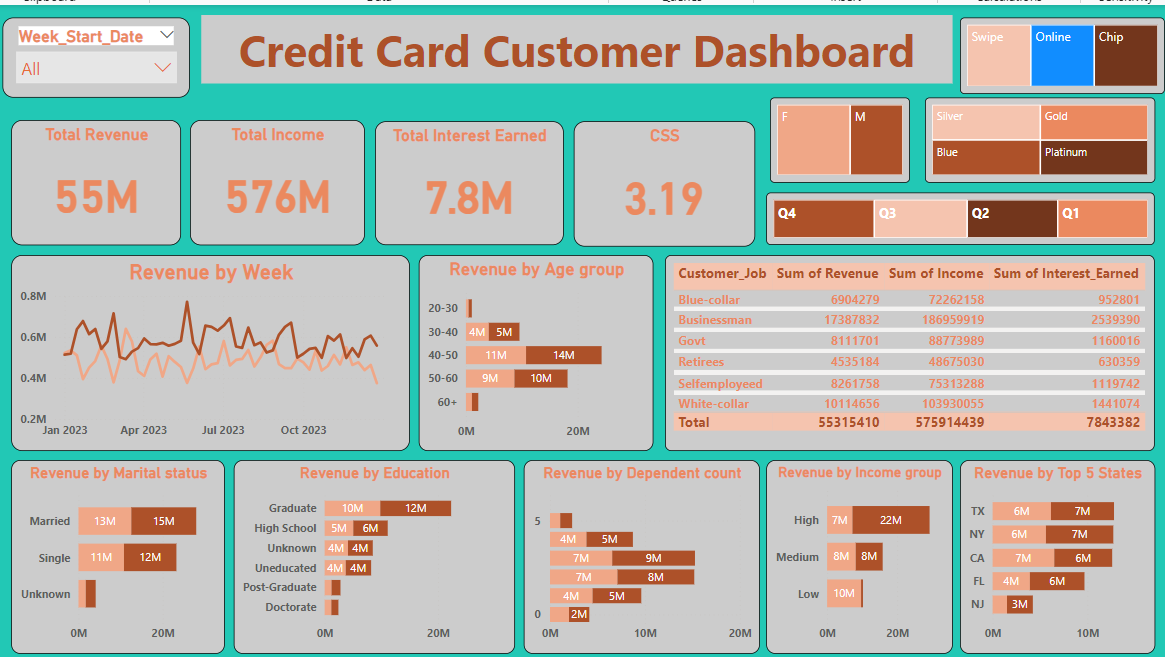

The page's visual inventory and layout, read from the dashboard file:
{"tool":"powerbi","page":{"name":"CC Customer","canvas":[1280,720],"ordinal":1},"visuals":[{"type":"card","title":"Total Interest Earned","fields":{"Values":["Sum(cc credit_card.Interest_Earned)"]},"box":[411.7,127.6,207.2,135.8],"z":0},{"type":"card","title":"Total Revenue","fields":{"Values":["Sum(cc credit_card.Revenue)"]},"box":[12.3,126.2,186.6,137.2],"z":1000},{"type":"textbox","box":[220.9,11,824.7,75.5],"z":2000},{"type":"barChart","title":"Revenue by Income group","fields":{"Y":["Sum(cc credit_card.Revenue)"],"Category":["cc customer.IncomeGroup"],"Series":["cc customer.Gender"]},"box":[841.2,499.5,204.5,212.7],"z":3000},{"type":"tableEx","fields":{"Values":["cc customer.Customer_Job","Sum(cc credit_card.Revenue)","Sum(cc customer.Income)","Sum(cc credit_card.Interest_Earned)"]},"box":[730,274.4,537.9,215.4],"z":4000},{"type":"card","title":"Total Income","fields":{"Values":["Sum(cc customer.Income)"]},"box":[208.6,126.2,192.1,137.2],"z":5000},{"type":"card","title":"CSS","fields":{"Values":["Avg(cc customer.Cust_Satisfaction_Score)"]},"box":[629.8,127.6,199,137.2],"z":6000},{"type":"slicer","fields":{"Values":["cc credit_card.Week_Start_Date"]},"box":[2.7,13.7,205.8,87.8],"z":7000},{"type":"treemap","fields":{"Group":["cc credit_card.Qtr"],"Values":["Avg(cc credit_card.ï»¿Client_Num)"]},"box":[841.2,205.8,426.8,57.6],"z":8000},{"type":"treemap","fields":{"Values":["CountNonNull(cc credit_card.Client_Num)"],"Group":["cc customer.Gender"]},"box":[845.3,101.5,153.7,93.3],"z":9000},{"type":"treemap","fields":{"Group":["cc credit_card.Card_Category"],"Values":["Avg(cc credit_card.Client_Num)"]},"box":[1015.4,101.5,252.5,93.3],"z":10000},{"type":"lineChart","title":" Revenue by Week","fields":{"Series":["cc customer.Gender"],"Category":["cc credit_card.Week_Start_Date.Variation.Date Hierarchy.Year","cc credit_card.Week_Start_Date.Variation.Date Hierarchy.Month","cc credit_card.Week_Start_Date.Variation.Date Hierarchy.Day"],"Y":["Sum(cc credit_card.Revenue)"]},"box":[12.3,274.4,437.7,215.4],"z":11000},{"type":"barChart","title":"Revenue by Age group","fields":{"Y":["Sum(cc credit_card.Revenue)"],"Category":["cc customer.AgeGroup"],"Series":["cc customer.Gender"]},"box":[459.7,274.4,258,215.4],"z":12000},{"type":"barChart","title":"Revenue by Education ","fields":{"Category":["cc customer.Education_Level"],"Y":["Sum(cc credit_card.Revenue)"],"Series":["cc customer.Gender"]},"box":[256.6,499.5,308.7,212.7],"z":13000},{"type":"barChart","title":"Revenue by Dependent count","fields":{"Y":["Sum(cc credit_card.Revenue)"],"Category":["cc customer.Dependent_Count"],"Series":["cc customer.Gender"]},"box":[575,499.5,259.3,212.7],"z":14000},{"type":"barChart","title":"Revenue by Top 5 States","fields":{"Y":["Sum(cc credit_card.Revenue)"],"Category":["cc customer.state_cd"],"Series":["cc customer.Gender"]},"box":[1053.9,499.5,214.1,212.7],"z":15000},{"type":"barChart","title":"Revenue by Marital status","fields":{"Category":["cc customer.Marital_Status"],"Y":["Sum(cc credit_card.Revenue)"],"Series":["cc customer.Gender"]},"box":[12.3,499.5,234.6,212.7],"z":16000},{"type":"treemap","fields":{"Values":["Avg(cc customer.Client_Num)"],"Group":["cc credit_card.Use Chip"]},"box":[1053.9,13.7,225,83.7],"z":17000}]}

Visuals, with their boxes in screenshot pixels (x1, y1, x2, y2), scaled from the page's 1280x720 canvas onto the 1165x657 screenshot:
"Total Interest Earned" card: Rect(375, 116, 563, 240)
"Total Revenue" card: Rect(11, 115, 181, 240)
textbox: Rect(201, 10, 952, 79)
"Revenue by Income group" barChart: Rect(766, 456, 952, 650)
tableEx - cc customer.Customer_Job x Sum(cc credit_card.Revenue): Rect(664, 250, 1154, 447)
"Total Income" card: Rect(190, 115, 365, 240)
"CSS" card: Rect(573, 116, 754, 242)
slicer - cc credit_card.Week_Start_Date: Rect(2, 13, 190, 93)
treemap - cc credit_card.Qtr x Avg(cc credit_card.ï»¿Client_Num): Rect(766, 188, 1154, 240)
treemap - CountNonNull(cc credit_card.Client_Num) x cc customer.Gender: Rect(769, 93, 909, 178)
treemap - cc credit_card.Card_Category x Avg(cc credit_card.Client_Num): Rect(924, 93, 1154, 178)
" Revenue by Week" lineChart: Rect(11, 250, 410, 447)
"Revenue by Age group" barChart: Rect(418, 250, 653, 447)
"Revenue by Education " barChart: Rect(234, 456, 515, 650)
"Revenue by Dependent count" barChart: Rect(523, 456, 759, 650)
"Revenue by Top 5 States" barChart: Rect(959, 456, 1154, 650)
"Revenue by Marital status" barChart: Rect(11, 456, 225, 650)
treemap - Avg(cc customer.Client_Num) x cc credit_card.Use Chip: Rect(959, 13, 1164, 89)
